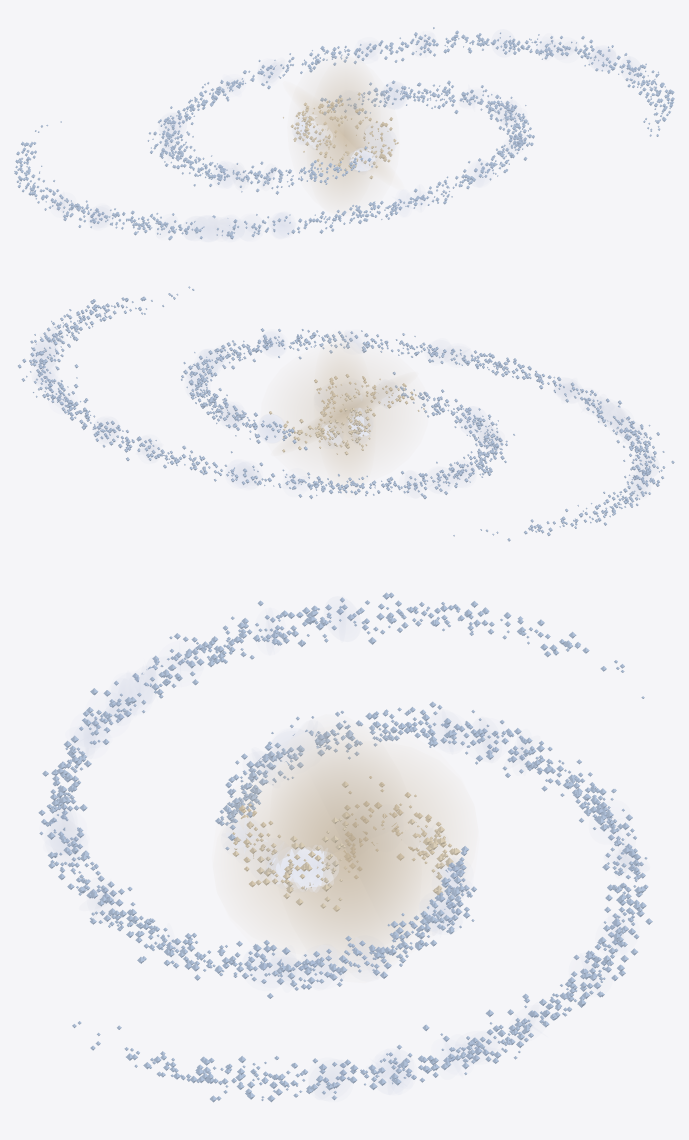
3 renders of one model, top to bottom at view 1: azimuth 30°, elevation 25°; view 2: azimuth 150°, elevation 25°; view 3: azimuth 270°, elevation 25°, orthographic. The views are drawn at different scales.
Size of the model in its own units: 7.22 by 1.78 by 4.02.
